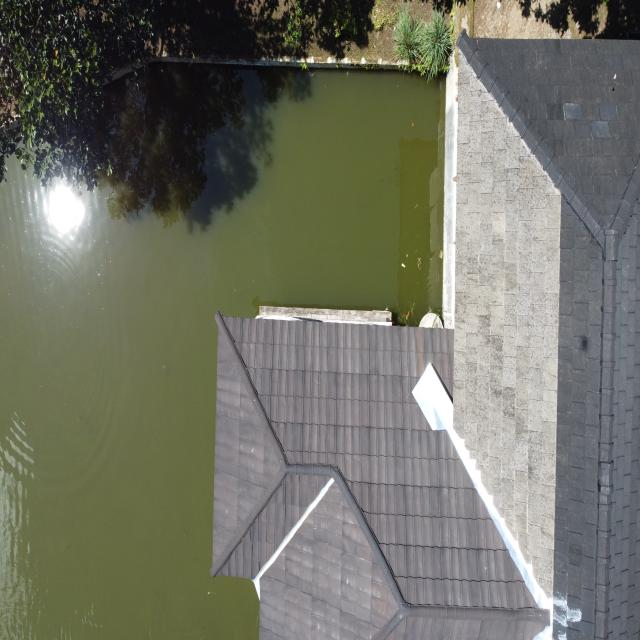Ponds: (1, 57, 456, 640)
